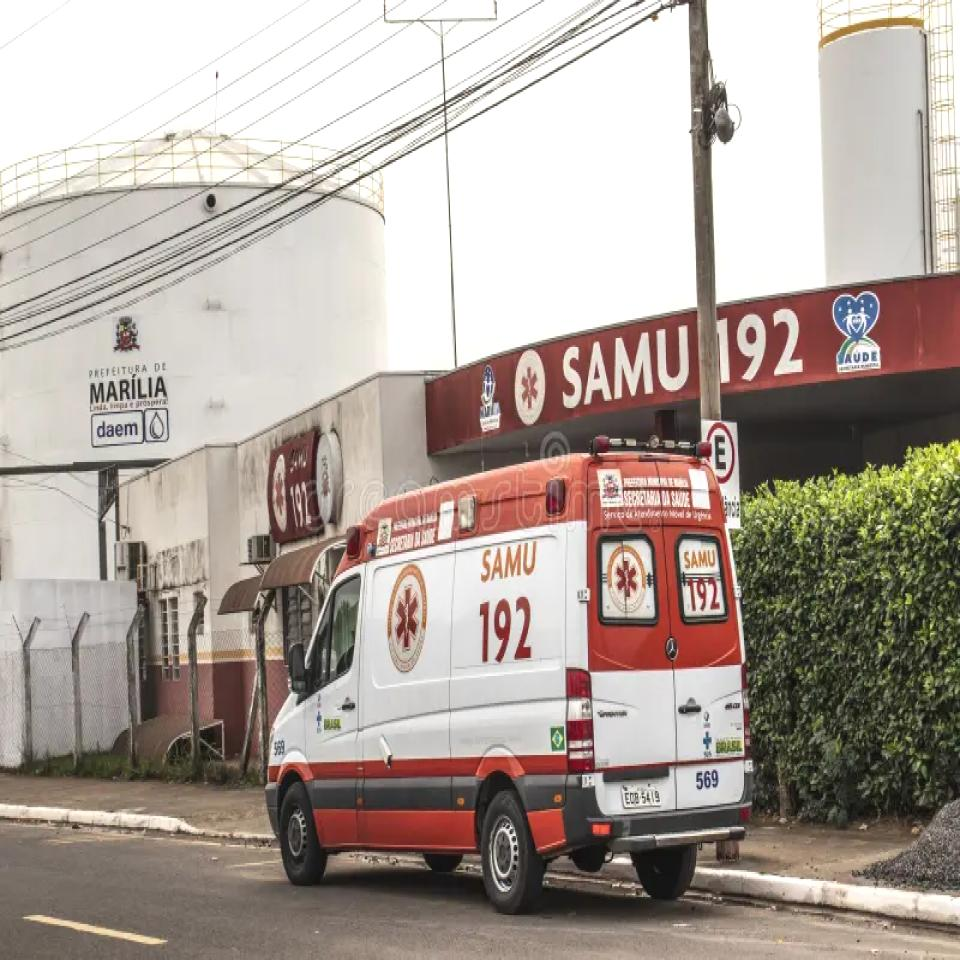ambulancia: (263, 433, 758, 913)
